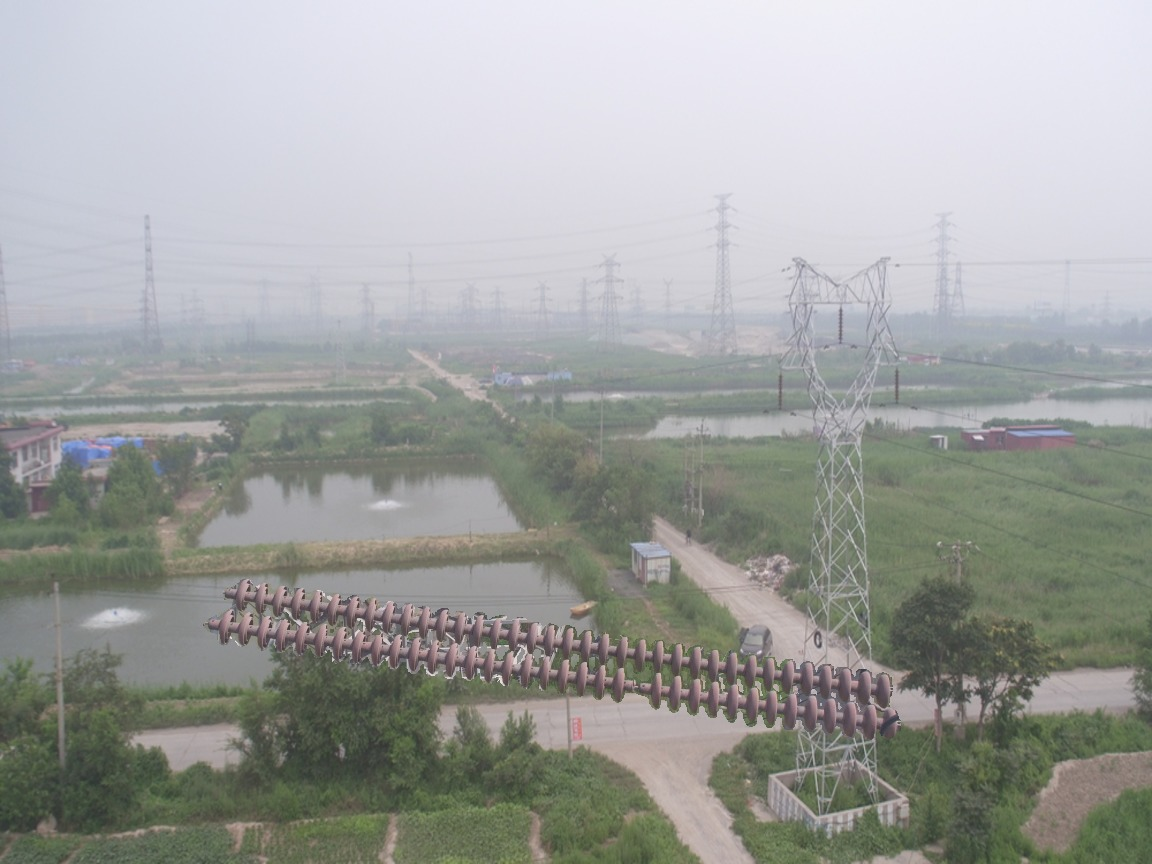defect: (605, 667, 671, 712)
